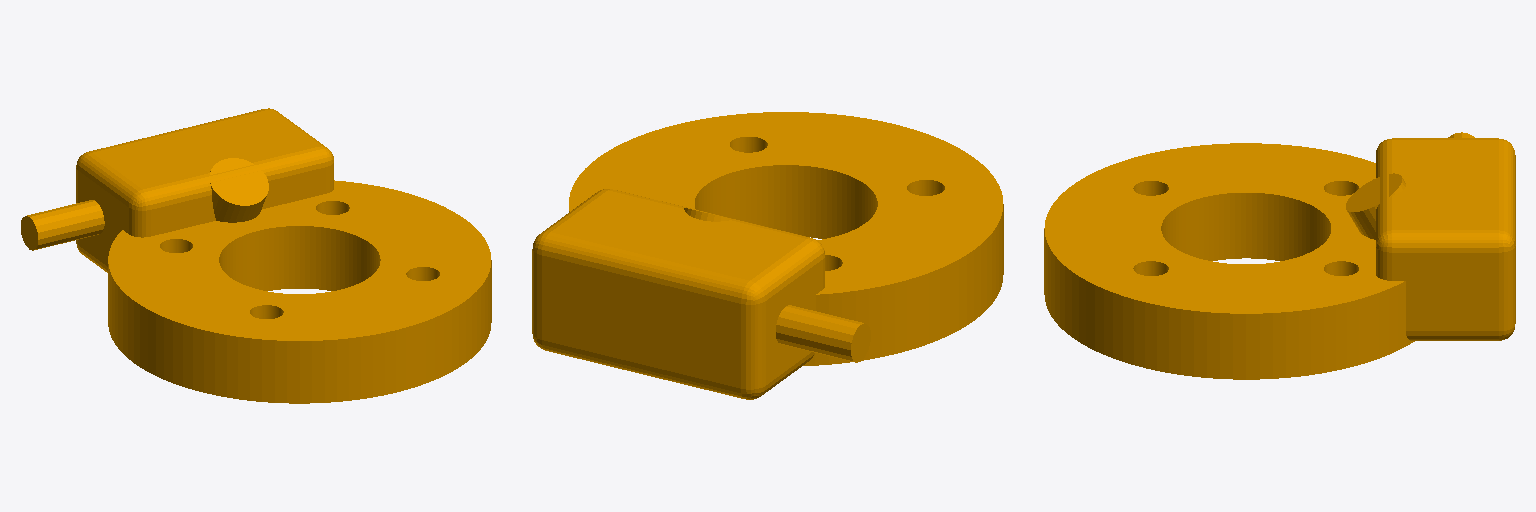
The robot description file, URDF, robot "robotiq_wrist_camera_rwc_cam_001":
<?xml version="1.0"?>
<robot name="robotiq_wrist_camera_rwc_cam_001">
<link name="mount"><visual ><geometry ><mesh filename="../meshes/mount.obj"/></geometry></visual><collision ><origin xyz="0 0 0.00675" rpy="0 0 0"/><geometry ><cylinder radius="0.0375" length="0.0135"/></geometry></collision><collision ><origin xyz="0 0.037 0.0112" rpy="0 0 0"/><geometry ><box size="0.046 0.026 0.0224"/></geometry></collision></link>
<link name="flange"></link>
<link name="camera_optical_frame"></link>
<joint name="flange_joint" type="fixed"><parent link="mount"/><child link="flange"/><origin xyz="0 0 0.0135" rpy="0 0 0"/></joint>
<joint name="camera_optical_frame_joint" type="fixed"><parent link="mount"/><child link="camera_optical_frame"/><origin xyz="0 0.0357 -0.0001" rpy="0.523598775598 0 0"/></joint>
</robot>

--- What the picture shows (computed from the rendered views, not written in the file) ---
3 views of the same robot in one strip: view 1: azimuth 30°, elevation 25°; view 2: azimuth 150°, elevation 25°; view 3: azimuth 270°, elevation 25° (orthographic).
Model robotiq_wrist_camera_rwc_cam_001 with 3 links and 2 joints (2 fixed), rooted at mount, posed all joints at 0.
Links seen in each view (by area): view 1: mount; view 2: mount; view 3: mount.
Boxes of the visible links, box(x1,y1,x2,y2) form: mount: box(21, 108, 491, 403); mount: box(532, 112, 1003, 399); mount: box(1044, 132, 1515, 379).
Size in the robot's own frame: 0.0755 by 0.0875 by 0.0237 metres.
1 mesh visuals loaded from 1 distinct referenced files (1 OBJ).
